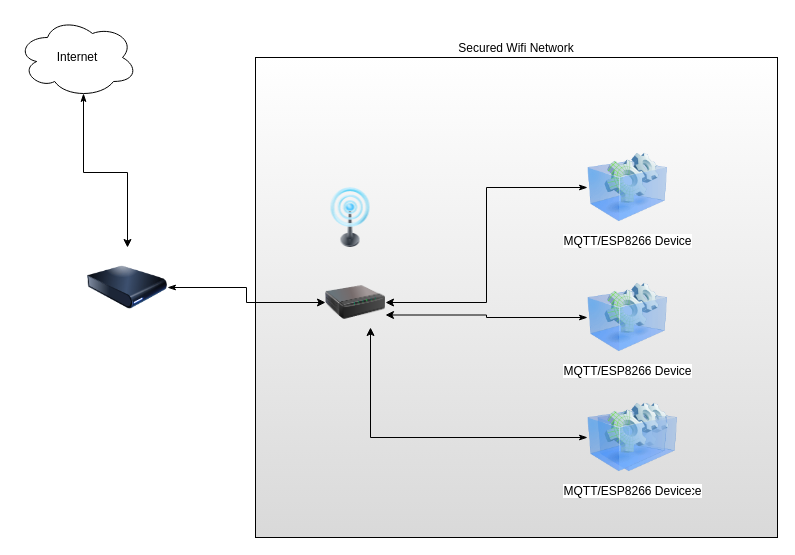
The diagram is 795 pixels wide and 555 high, and some of its shapes have lost their labels. The centre of each missing label's shape, as x and y in pixels:
ISP - Box Internet connection: the point at 127,287
RPI: the point at 355,302
Wifi IOT Network: the point at 350,217
